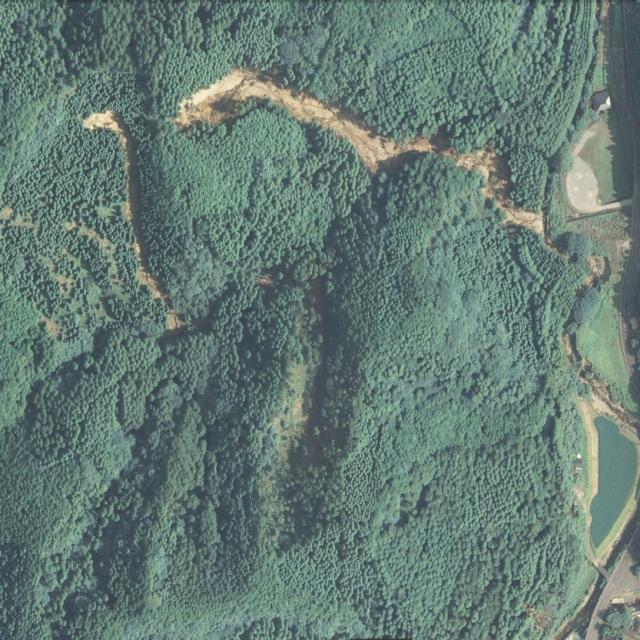landslide: (174, 68, 545, 236), (175, 68, 406, 173)
